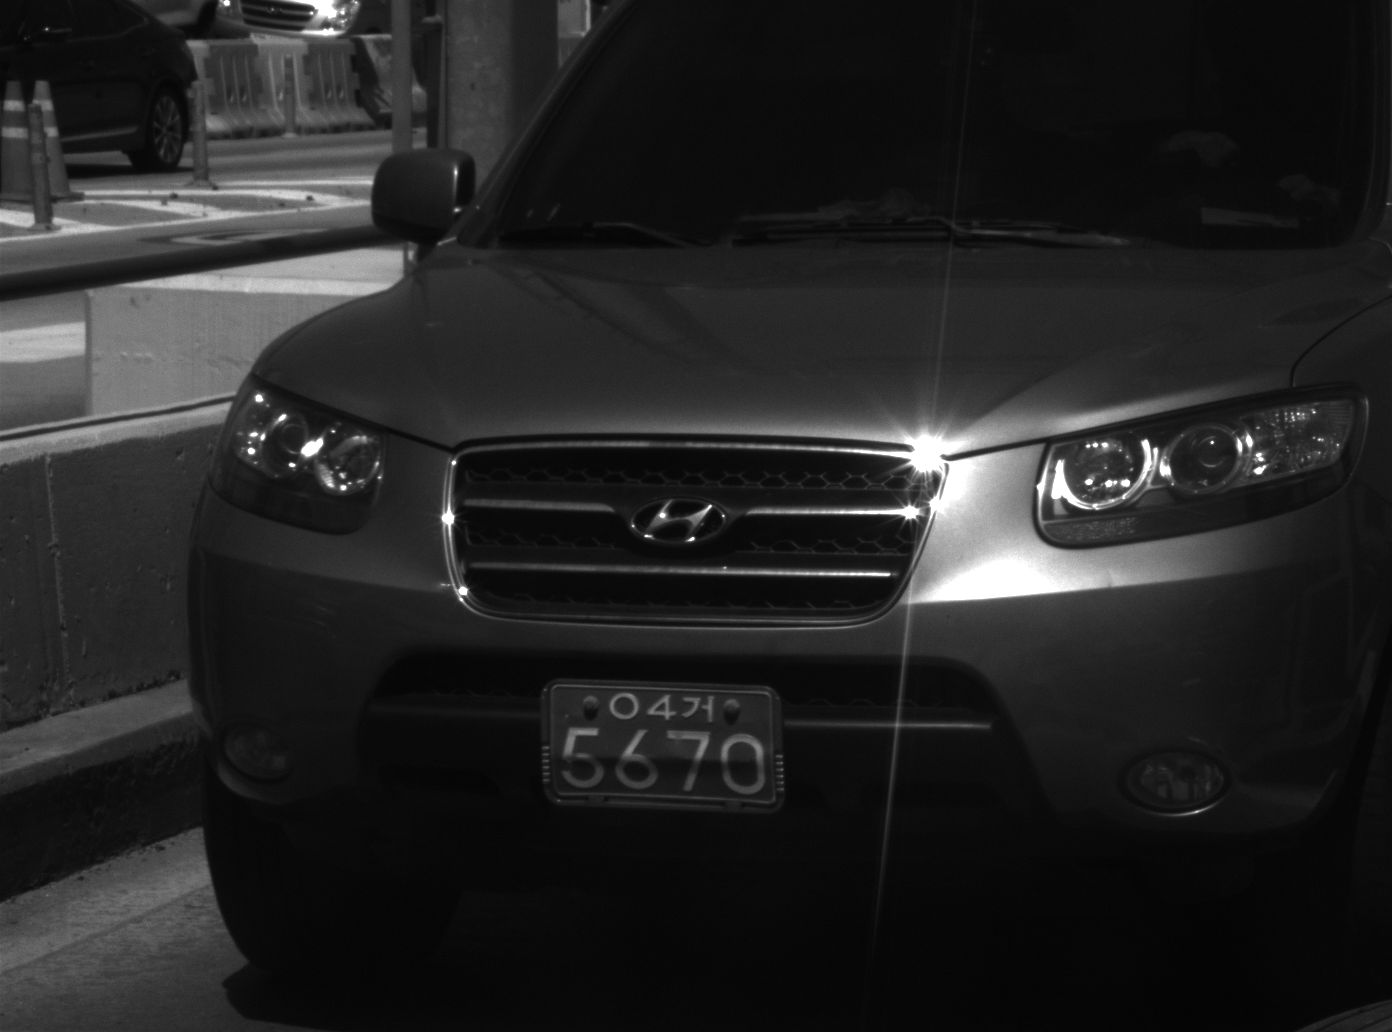car: (186, 1, 1392, 994)
plate: (545, 678, 789, 821)
